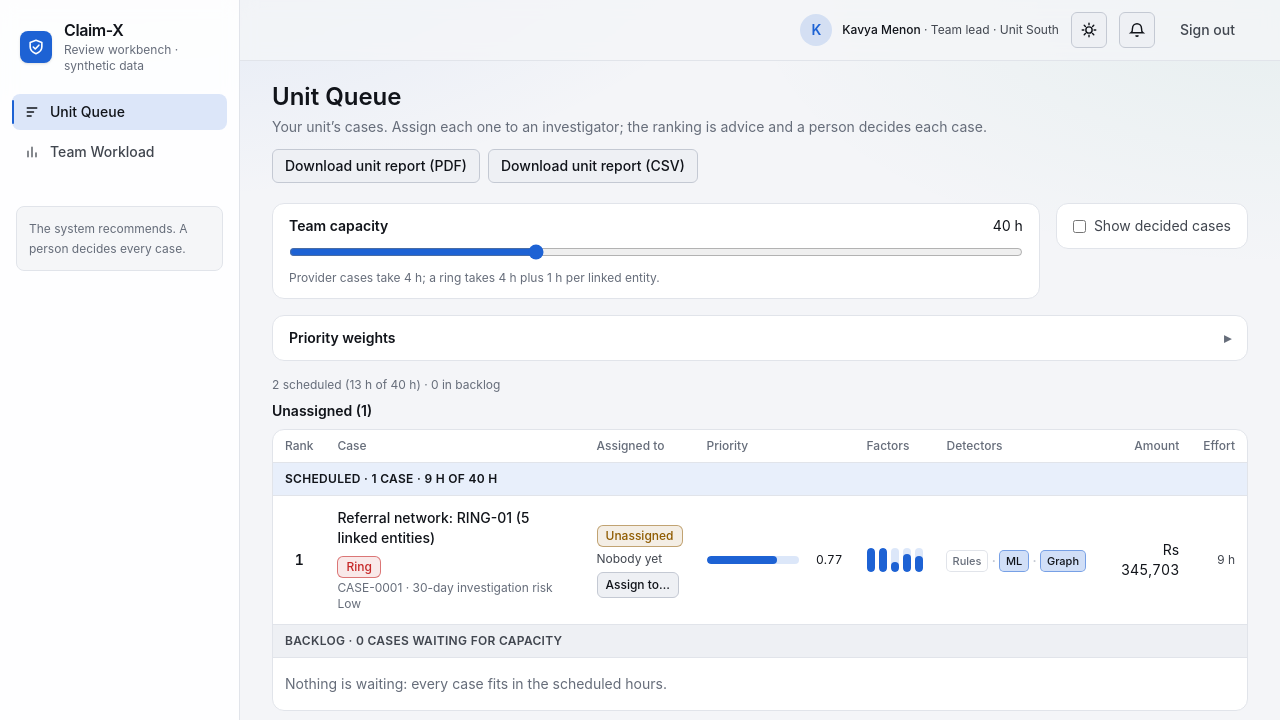
Test: team lead assignment › shows the API’s refusal when an assignment is not allowed
This screenshot has width=1280, height=720.
Click the button with aria-label "Assign CASE-0001" at (638,585), box [596,572,679,598]
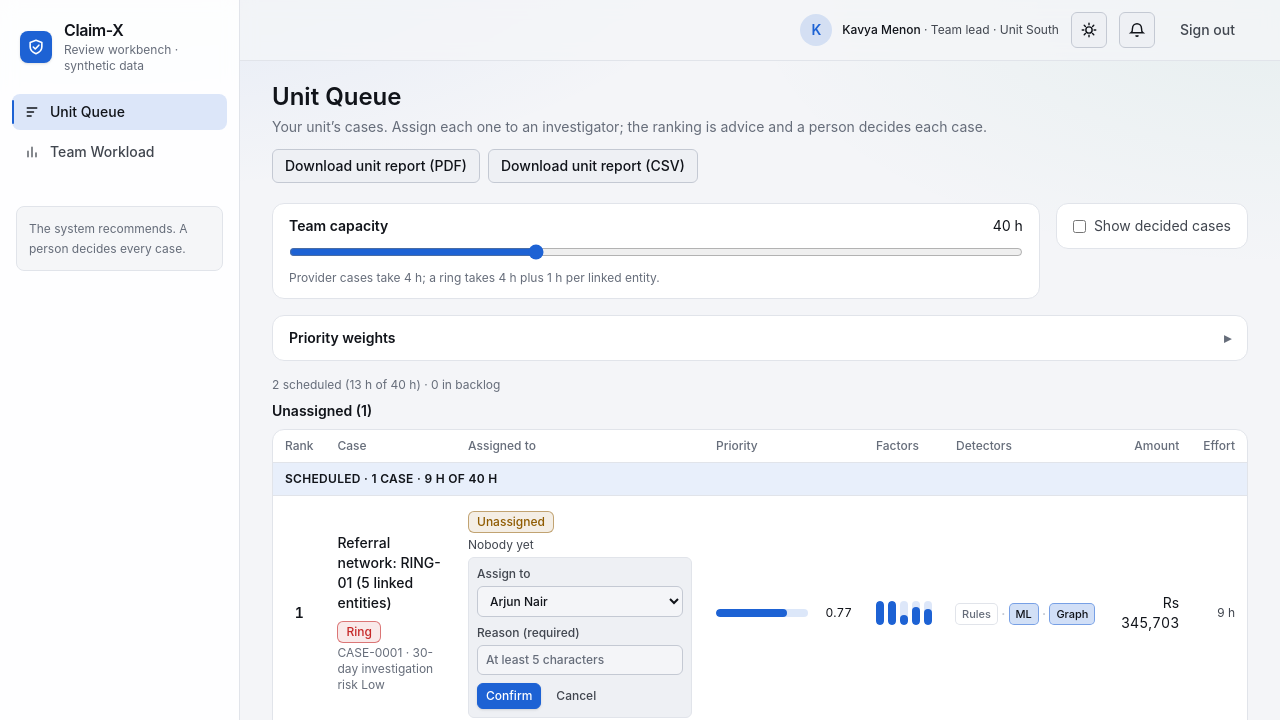
Type "Needs a closer look" into the field labelled "Reason (required)" at (580,660), box [477,645,683,675]
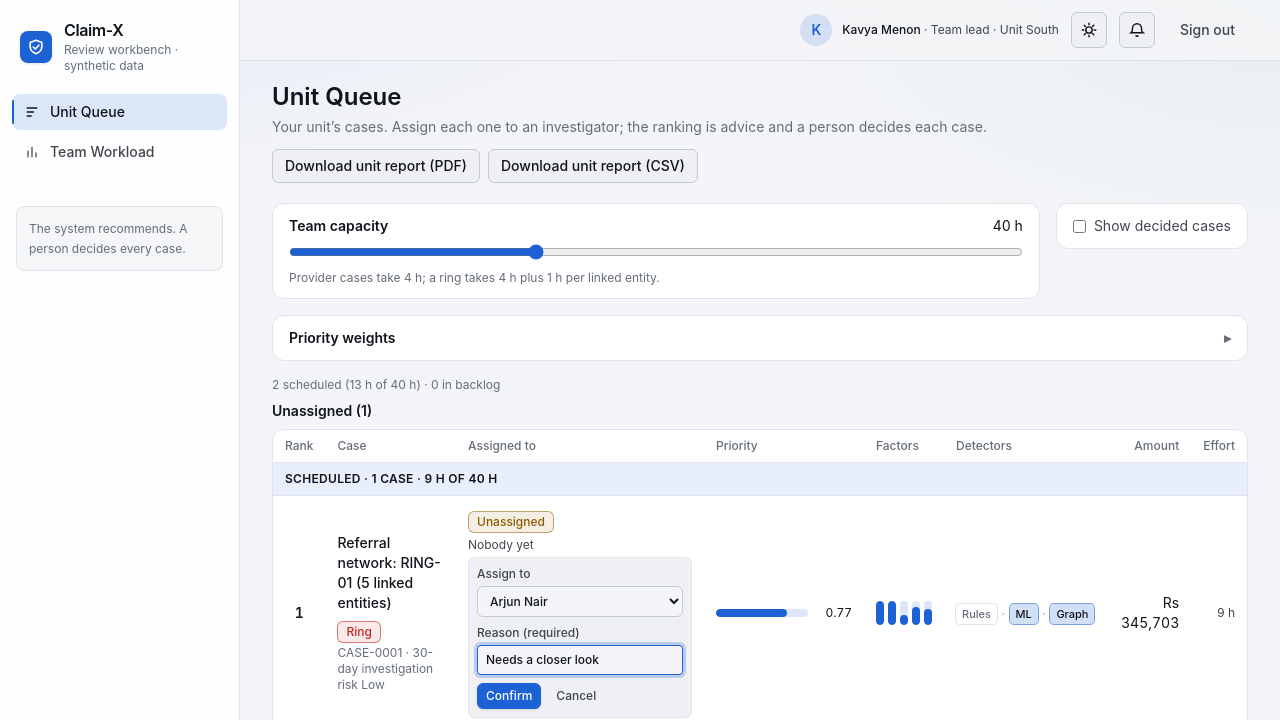
Click the button "Confirm" at (509,696), box [477,683,541,709]
(page scrolled)
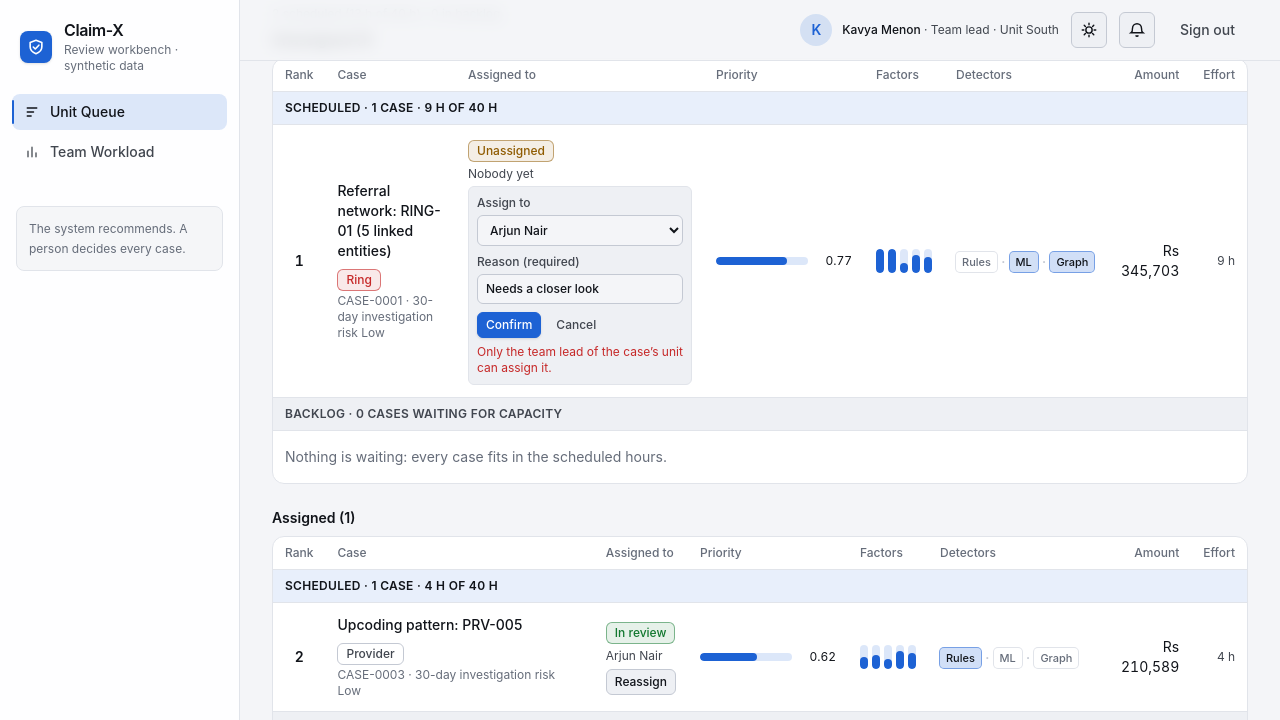
Check: the message with test id "assign-error" shows "Only the team lead", box [477,344,683,375]
